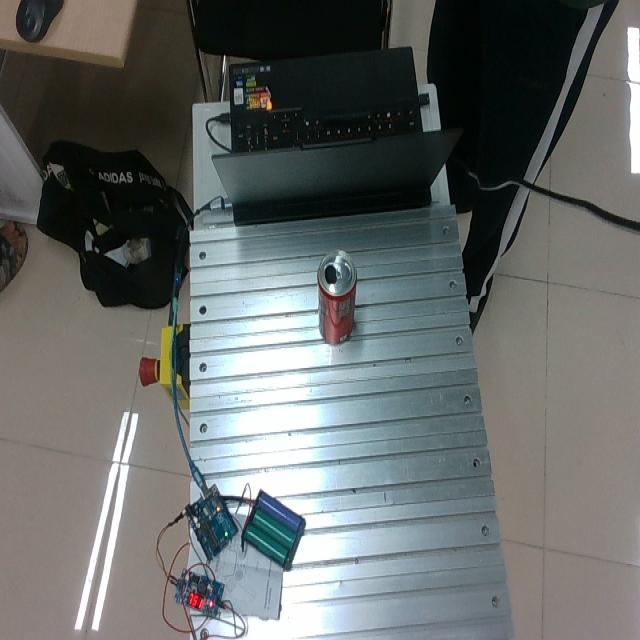coca: (316, 248, 357, 345)
